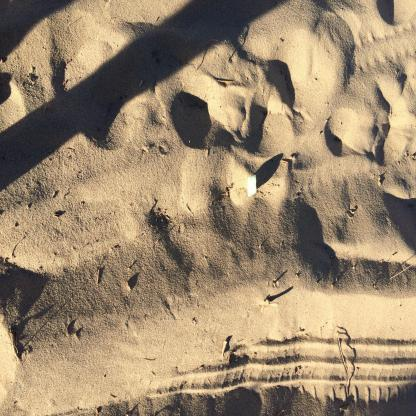diger: (248, 175, 259, 199)
